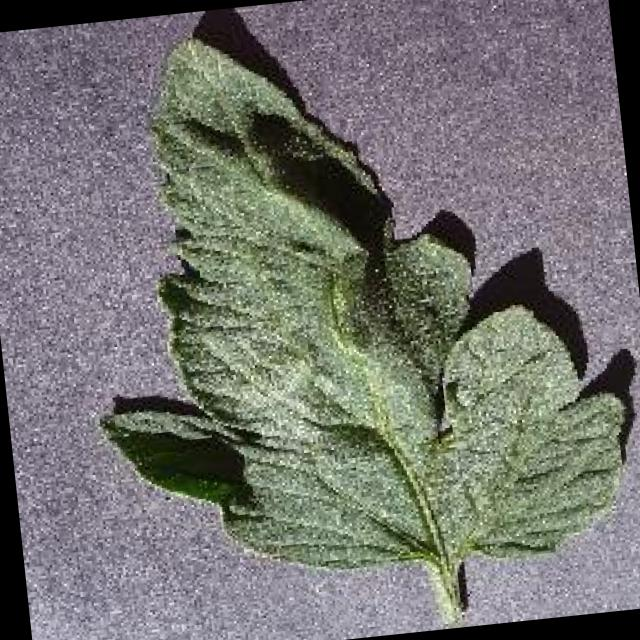Tomato_Healthy: (68, 0, 640, 599)
